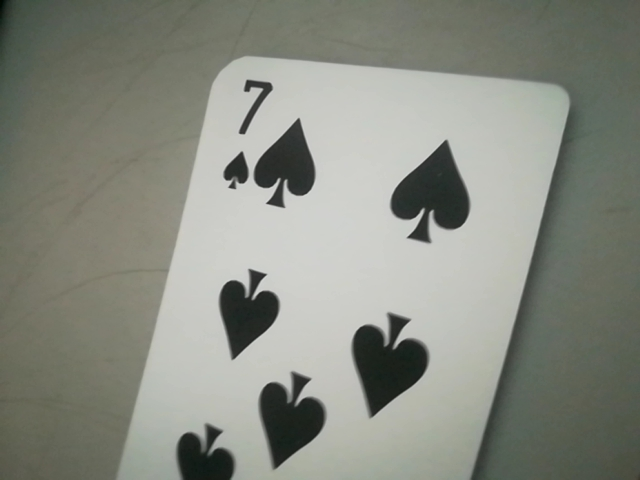ht 7: (211, 61, 275, 204)
